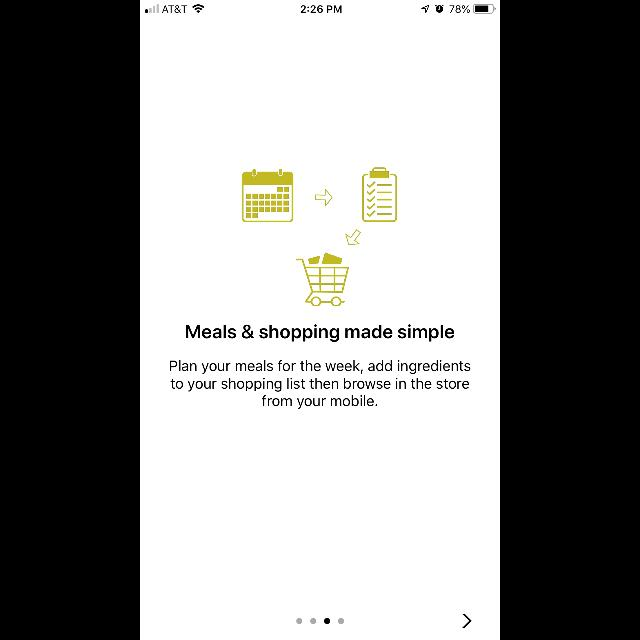icon: (462, 614, 472, 628)
image: (242, 168, 398, 306)
pageindicator: (296, 618, 344, 624)
text: (170, 359, 470, 408), (186, 324, 454, 342)
uppertaskbar: (140, 0, 500, 14)
